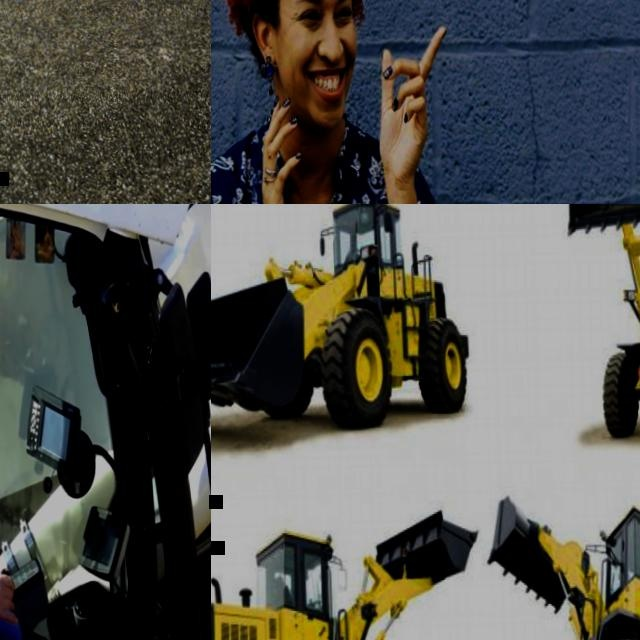NO-Mask: (283, 62, 356, 132)
NO-Safety Vest: (222, 120, 417, 204)
Person: (211, 0, 469, 204)
machinery: (0, 204, 211, 640), (211, 204, 477, 435), (211, 500, 487, 640), (482, 472, 640, 640), (553, 204, 640, 485)
